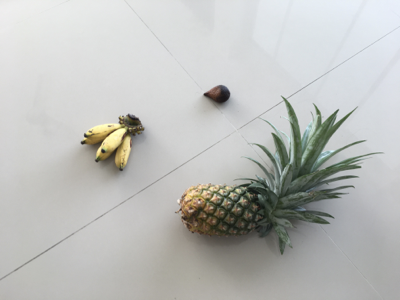banana: (80, 114, 144, 173)
pineapple: (176, 98, 379, 248)
snake fruit: (204, 86, 231, 104)
